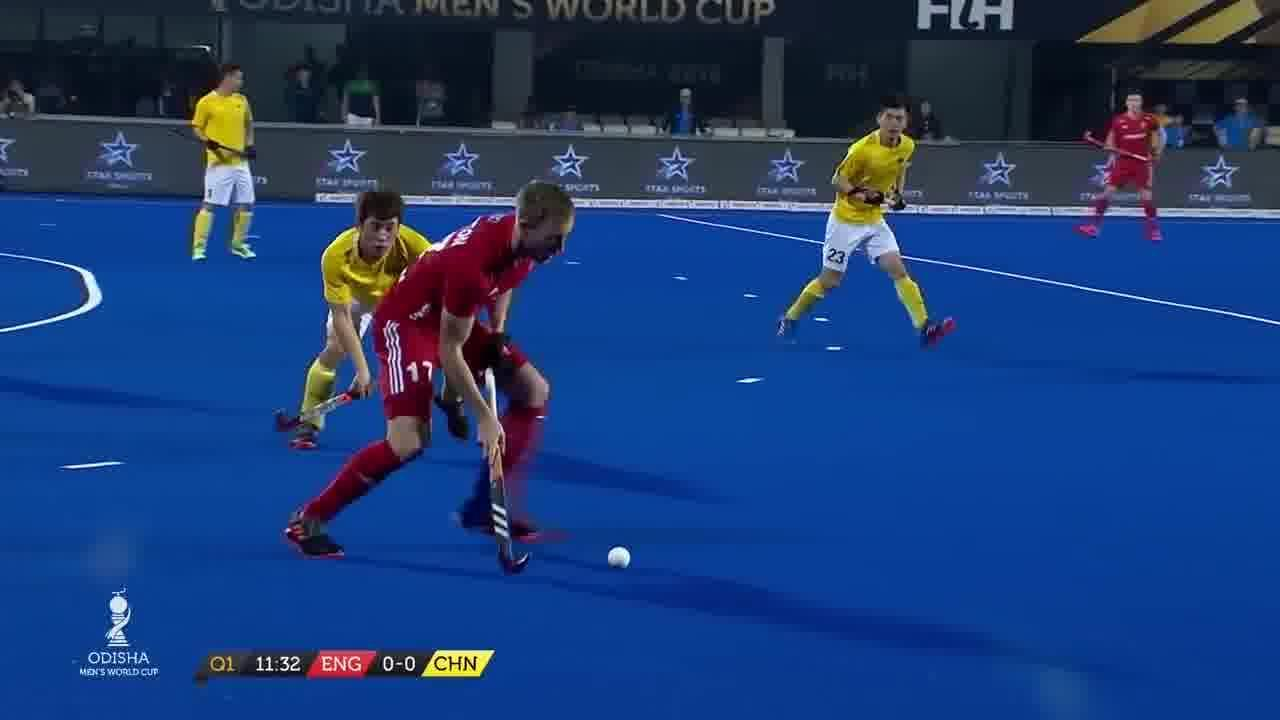ball: (601, 539, 641, 578)
